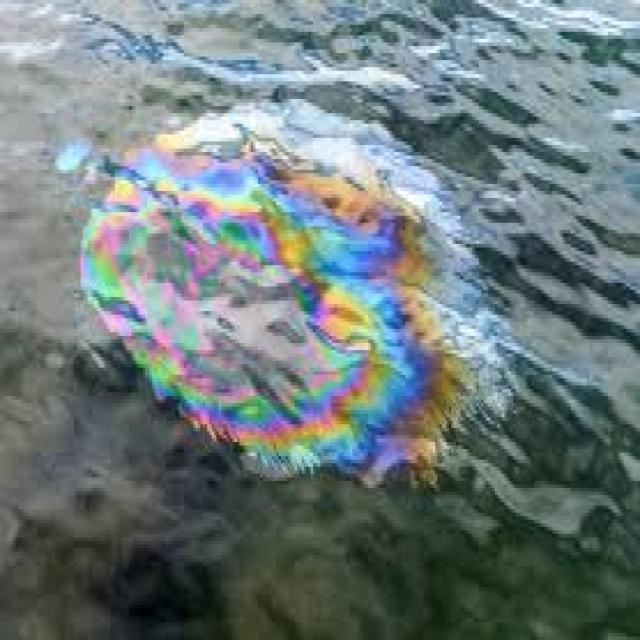rainbow: (83, 149, 458, 483)
